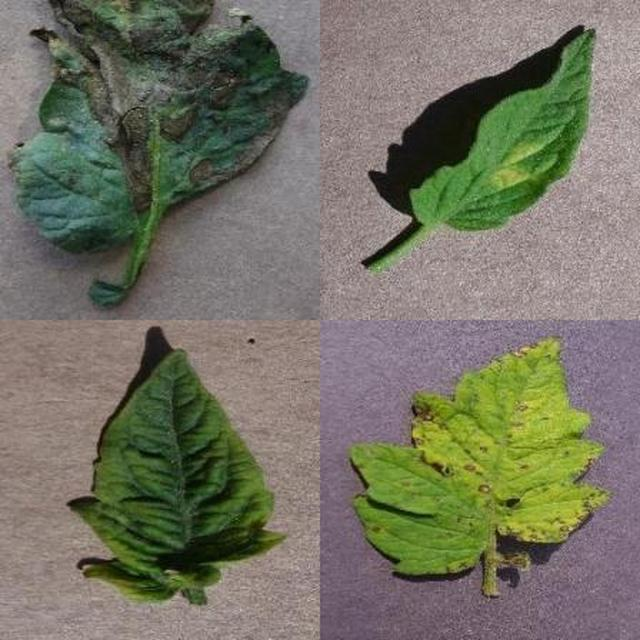Early Blight Leaf: (230, 185, 640, 640)
